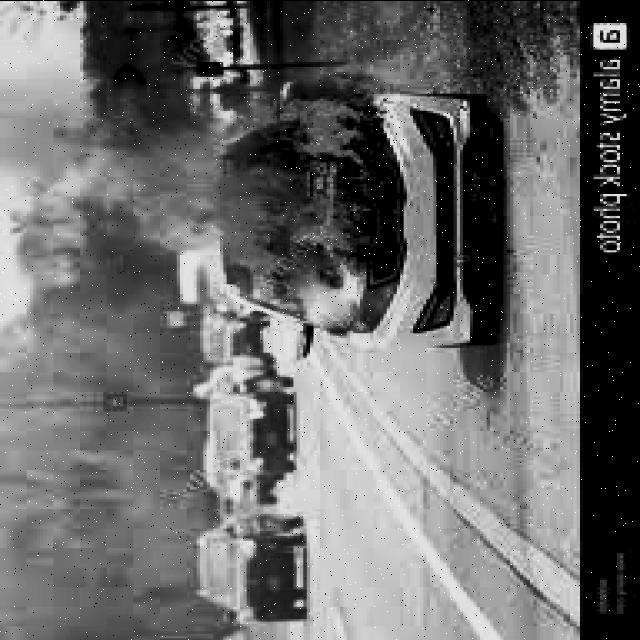api: (145, 82, 385, 287)
